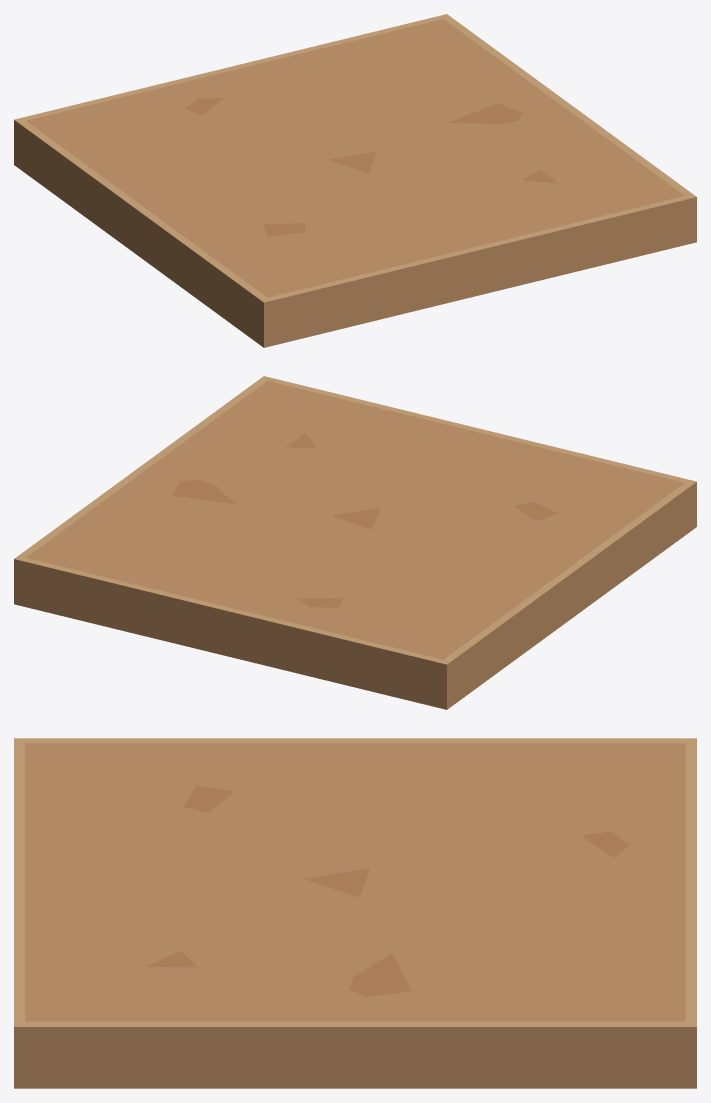
Rendered from ConcrateSlabs_E_2_2.fbx.
The picture shows the model from 3 angles, top to bottom: view 1: azimuth 30°, elevation 25°; view 2: azimuth 150°, elevation 25°; view 3: azimuth 270°, elevation 25°; orthographic projection. The views are drawn at different scales.
Visible parts, largest first — view 1: ConcrateSlabs_E_2_2; view 2: ConcrateSlabs_E_2_2; view 3: ConcrateSlabs_E_2_2.
Part boxes in pixels (x1,y1,x2,y2): ConcrateSlabs_E_2_2: (14,14,696,347); ConcrateSlabs_E_2_2: (14,376,696,709); ConcrateSlabs_E_2_2: (14,738,696,1088).
Size of the model in its own units: 400 by 40 by 400.
